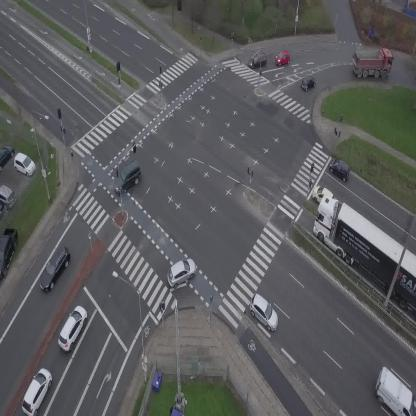car: (33, 244, 76, 294), (53, 303, 93, 353), (17, 366, 57, 416), (243, 292, 285, 334), (107, 160, 147, 197), (161, 254, 201, 290), (326, 155, 354, 182), (310, 182, 335, 205), (298, 74, 318, 93), (247, 52, 268, 68), (273, 49, 292, 66)
lorry: (353, 47, 392, 79)
